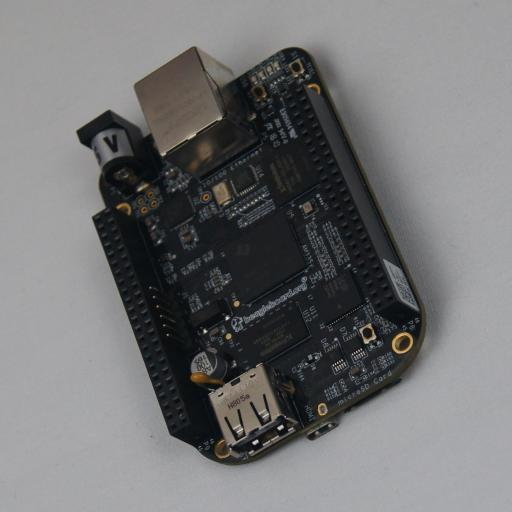Beaglebone Black: (76, 46, 433, 466)
